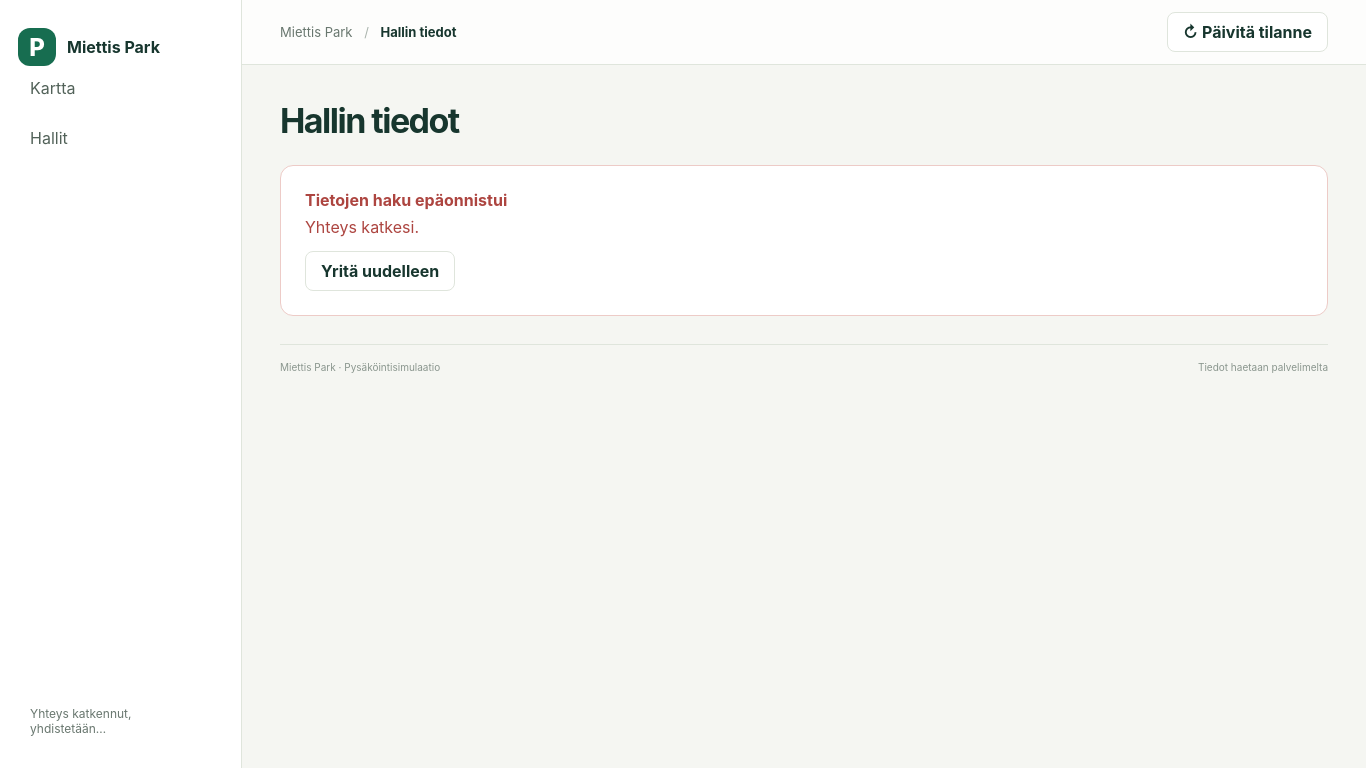
Test case: shows an empty garage list and a recoverable load failure
The image size is (1366, 768).
Expected: the message "Tietojen haku epäonnistui Yhteys katkesi. Yritä uudelleen" is shown, [280, 165, 1328, 316]
Step 1. Click the button "Yritä uudelleen" → (380, 271), box [305, 251, 455, 291]
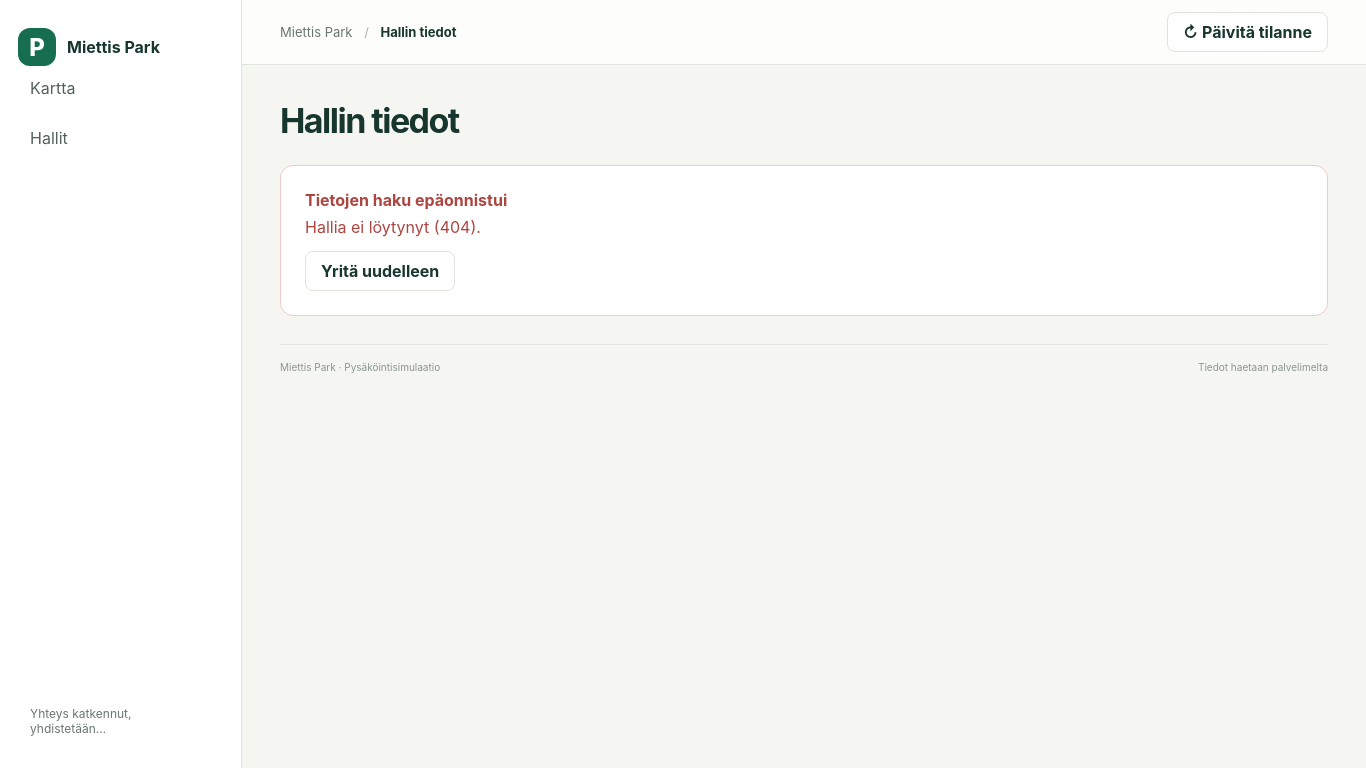
Now the text "Hallia ei löytynyt (404)." is shown, box [305, 217, 481, 237]
